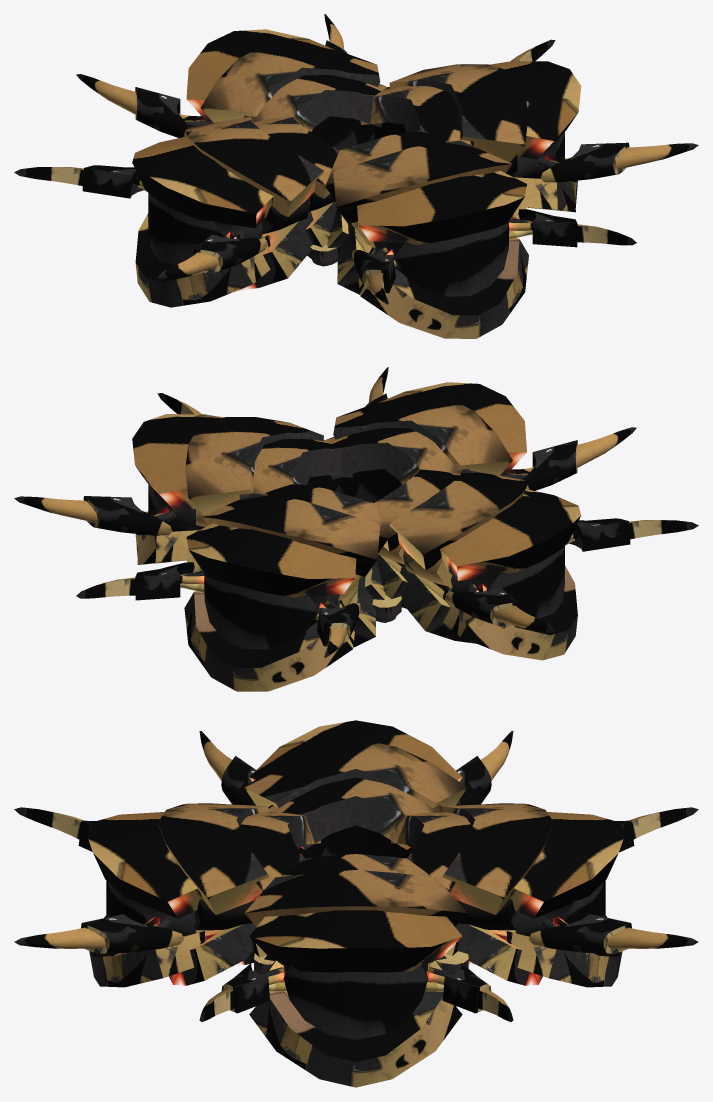
The model's file is OpterisStation.fbx.
The picture shows the model from 3 angles, top to bottom: view 1: azimuth 30°, elevation 25°; view 2: azimuth 150°, elevation 25°; view 3: azimuth 270°, elevation 25°; orthographic projection. The views are drawn at different scales.
Visible parts, largest first — view 1: OpterisStation; view 2: OpterisStation; view 3: OpterisStation.
Boxes of the visible parts, x1,y1,x2,y2 form: OpterisStation: (14,14,698,338); OpterisStation: (14,367,698,691); OpterisStation: (14,720,698,1087).
Bounding box in the file's own units: 991 × 251 × 991.
Materials: 1 (1 with a texture image).
